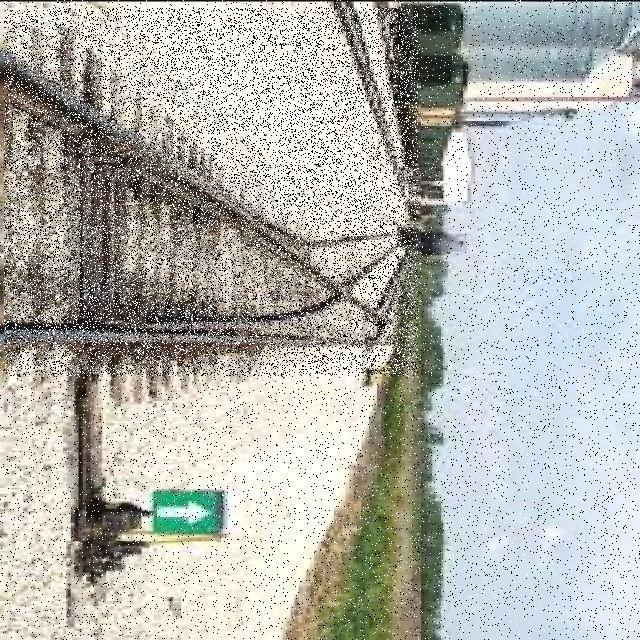rail: (5, 8, 418, 376)
